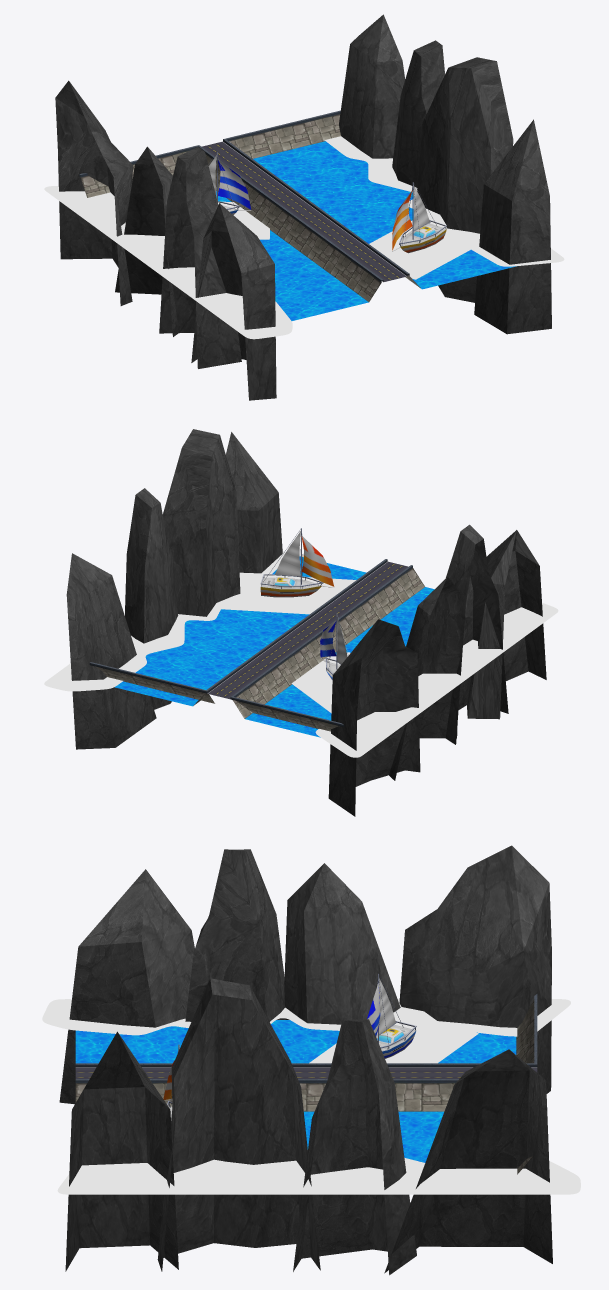
The model's file is City_13.fbx.
The picture shows the model from 3 angles, top to bottom: view 1: azimuth 30°, elevation 25°; view 2: azimuth 150°, elevation 25°; view 3: azimuth 270°, elevation 25°; orthographic projection. The views are drawn at different scales.
Parts seen in each view (by area): view 1: City_13; view 2: City_13; view 3: City_13.
Part boxes in pixels (x1=…): City_13: x1=44, y1=14, x2=564, y2=400; City_13: x1=44, y1=429, x2=558, y2=816; City_13: x1=42, y1=845, x2=580, y2=1275.
Bounding box in the file's own units: 22617 × 13384 × 25170.
